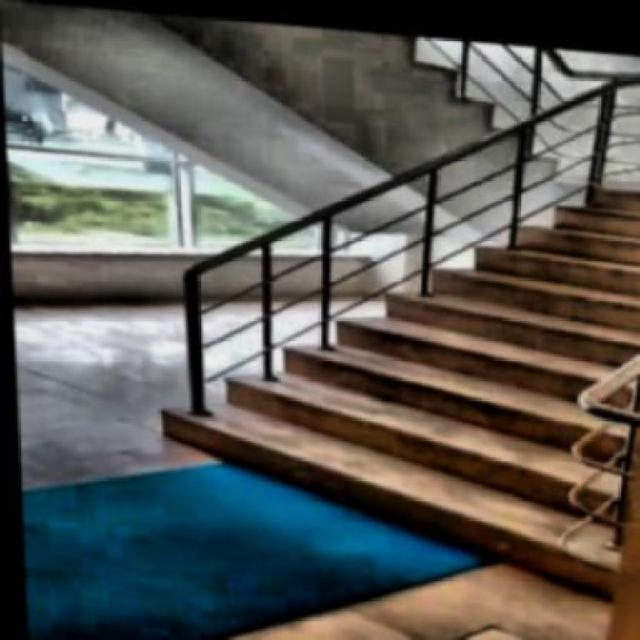stair: (107, 111, 638, 603)
